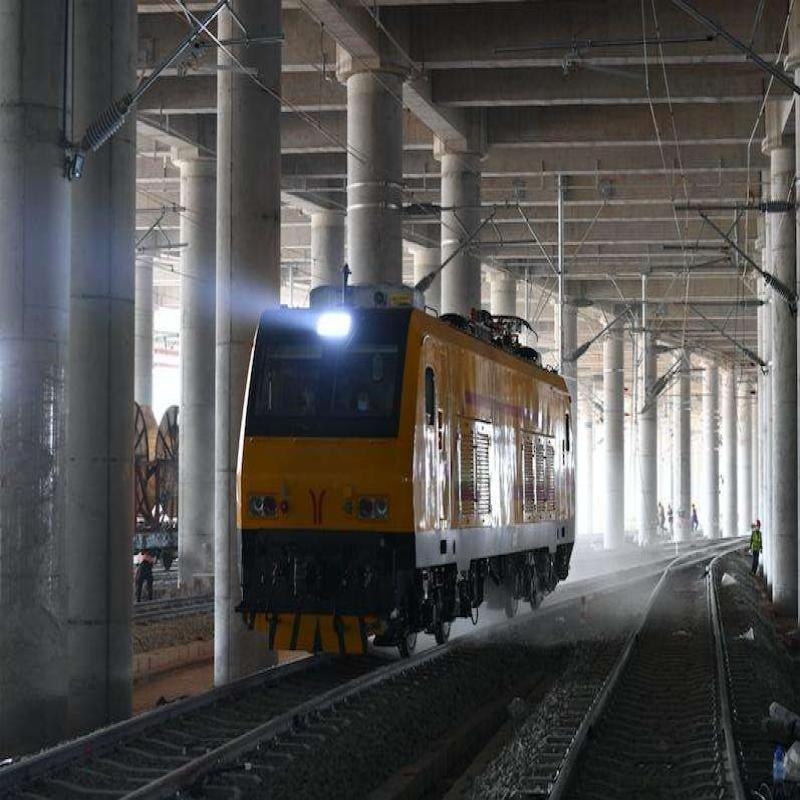train: (247, 303, 575, 659)
